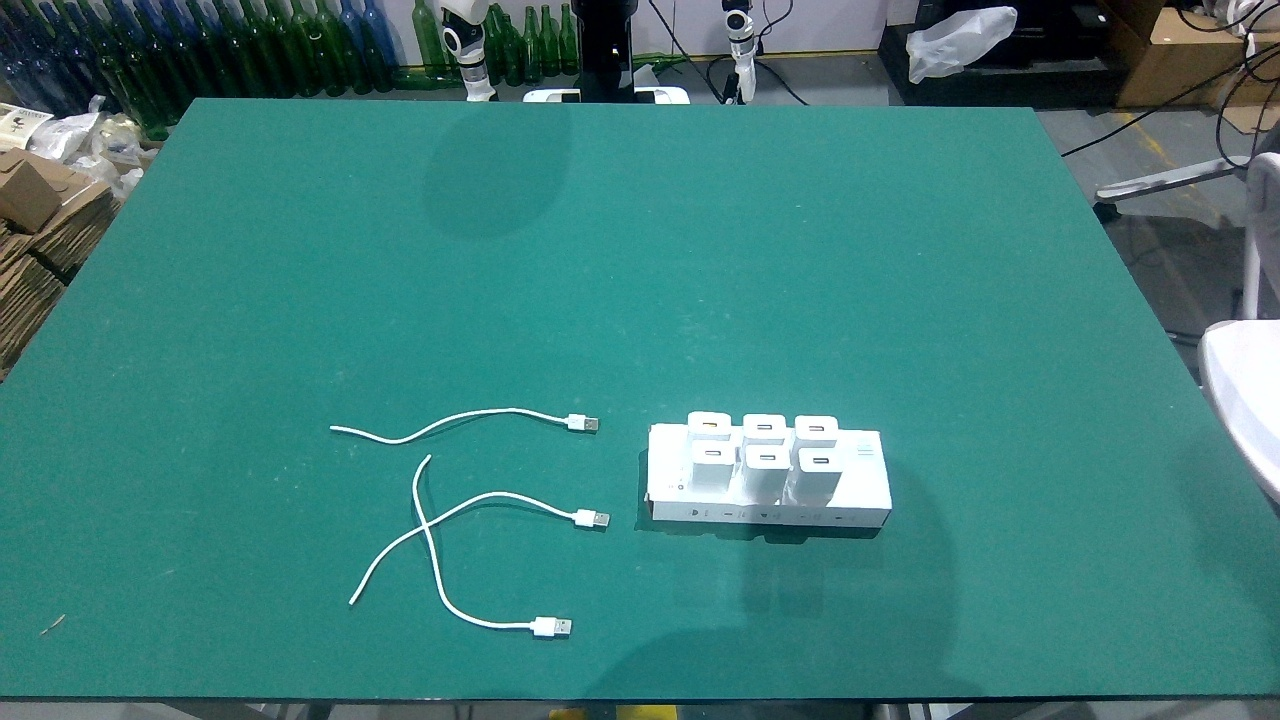usb_a_port: (807, 424, 827, 434), (757, 453, 778, 462), (811, 457, 831, 466), (702, 449, 724, 457), (755, 424, 774, 433), (701, 422, 719, 429)
